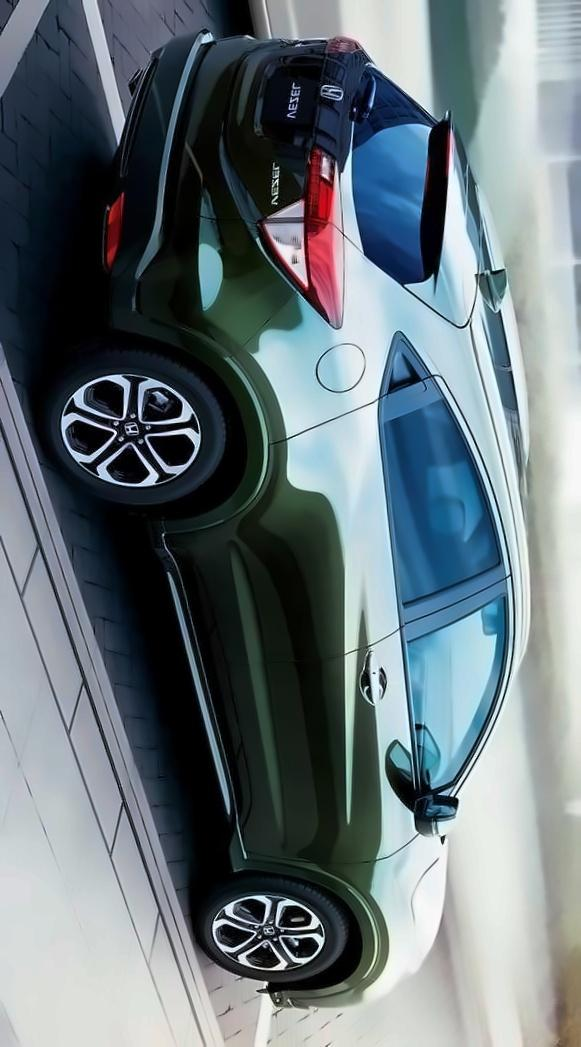Car boot: (188, 10, 481, 317)
Driver-s door - -F-R-: (204, 639, 512, 862)
Fender - -F-R-: (214, 834, 411, 964)
Fender - -R-R-: (175, 265, 388, 449)
Front bumper: (254, 968, 384, 1047)
Headlight - -R-: (410, 833, 449, 968)
Passenger-s door - -R-R-: (175, 404, 530, 638)
Rear bumper: (70, 25, 215, 457)
Rear light - -L-: (305, 20, 384, 67)
Rear light - -R-: (254, 135, 361, 338)
Side bumper - -R-: (134, 482, 258, 884)
Side mirror - -R-: (392, 768, 476, 851)
